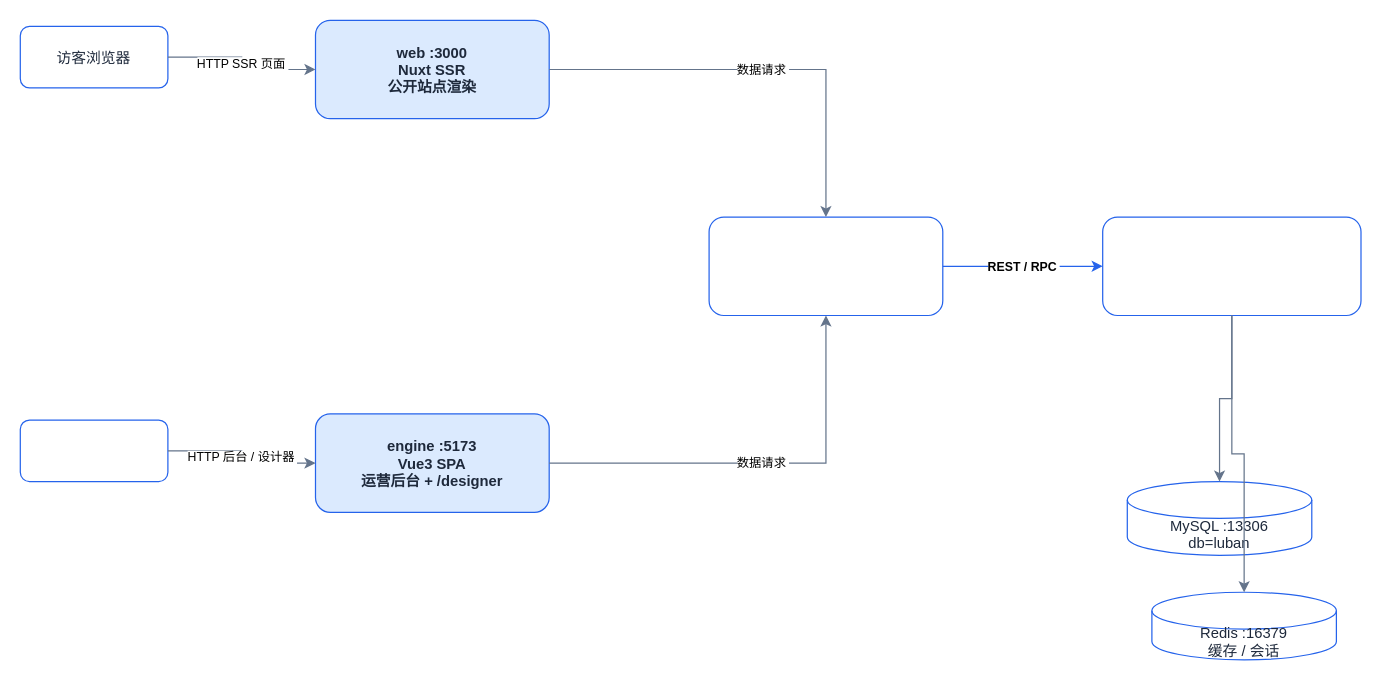
The diagram is 1381 pixels wide and 680 high, and some of its shapes have lost their labels. Here are the shapes that lost their labels. From the top down, the centre of each, then its label:
the point at 825,265: bff :3100 Next.js BFF 聚合 / 鉴权 / 转码
the point at 1231,265: backend :8080 Spring Boot 业务后端（唯一权威）
the point at 93,450: 运营浏览器
